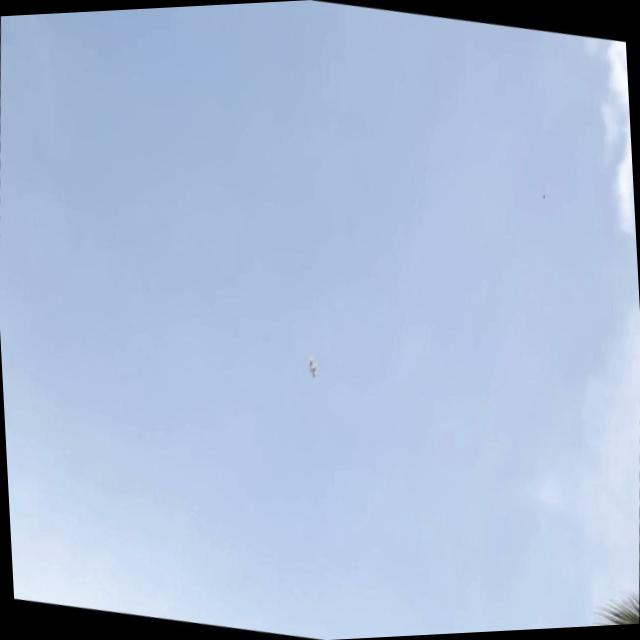drone: (306, 347, 321, 382)
